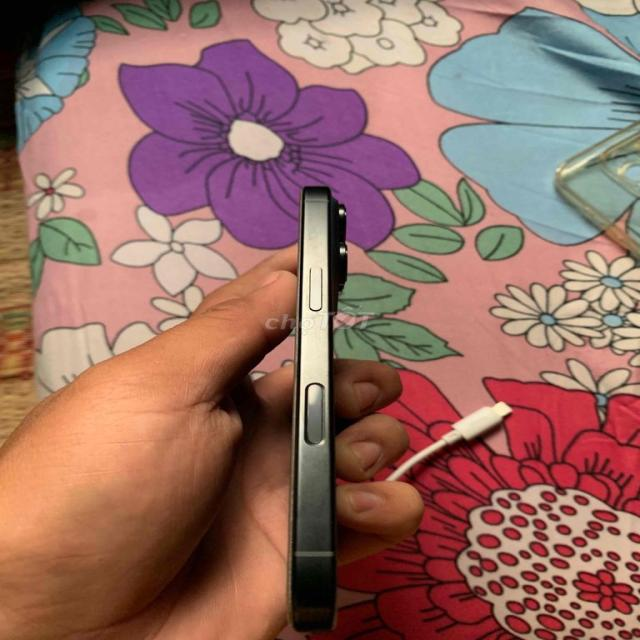gen_16: (244, 181, 378, 633)
